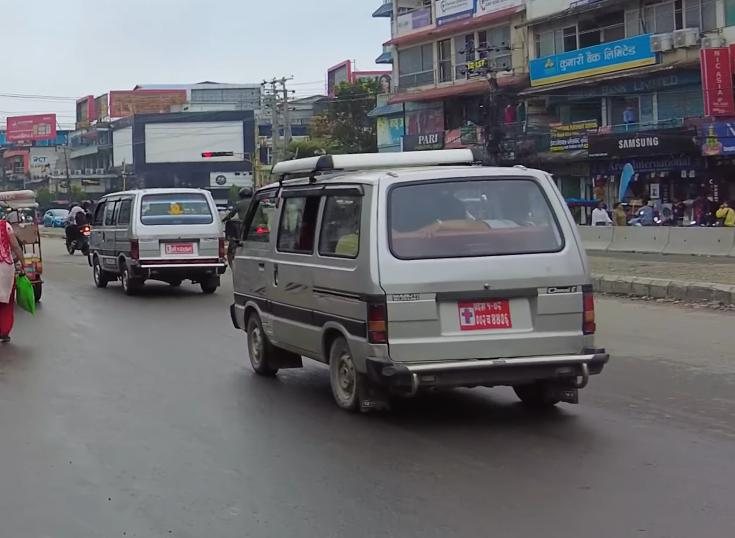van: (229, 149, 625, 432), (85, 187, 234, 299)
